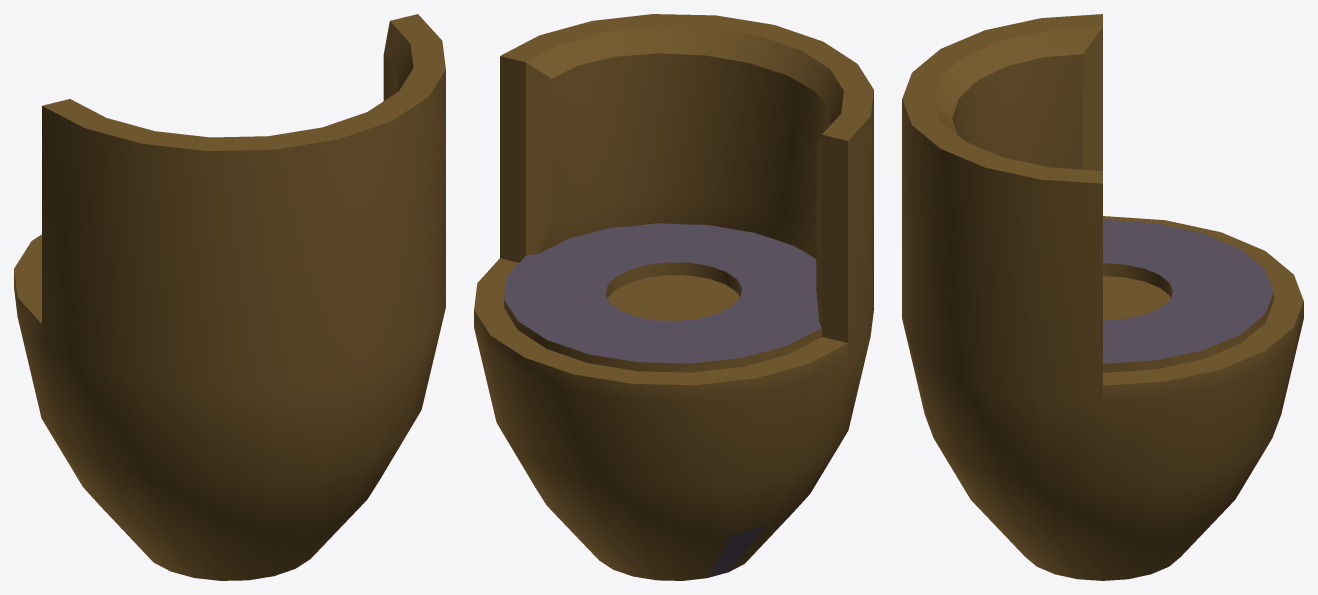
File: chair.fbx
3 views of the same model, side by side, from view 1: azimuth 30°, elevation 25°; view 2: azimuth 150°, elevation 25°; view 3: azimuth 270°, elevation 25° (orthographic). The views are drawn at different scales.
Parts seen in each view (by area): view 1: chair; view 2: chair; view 3: chair.
Part boxes in pixels (box(x1,y1,x2,y2)): chair: box(14, 14, 445, 580); chair: box(474, 14, 873, 580); chair: box(902, 14, 1303, 580).
Size of the model in its own units: 4.61 by 5.67 by 4.61.
